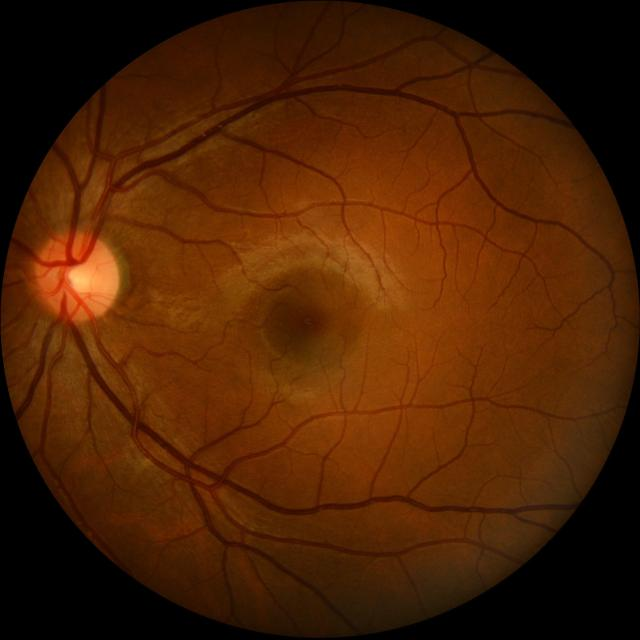OC: (65, 261, 96, 296)
OD: (34, 232, 118, 320)
